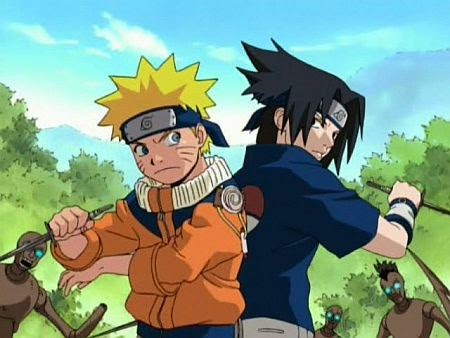naruto: (119, 101, 210, 184)
sasuke: (272, 91, 349, 165)
